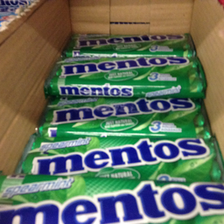candy: (1, 171, 224, 222), (13, 132, 221, 184), (32, 95, 211, 138), (46, 58, 206, 98), (64, 32, 197, 57)
